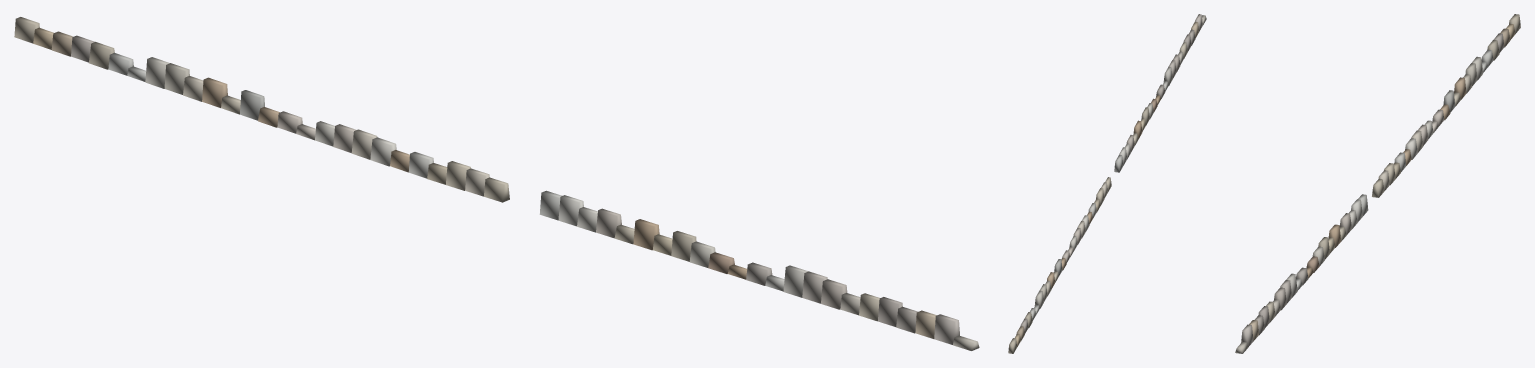
File: farm_-18_-28_collision.glb
3 views of the same model, side by side, from view 1: azimuth 30°, elevation 25°; view 2: azimuth 150°, elevation 25°; view 3: azimuth 330°, elevation 25° (orthographic). The views are drawn at different scales.
Parts seen in each view (by area): view 1: geometry_0; view 2: geometry_0; view 3: geometry_0.
Part boxes in pixels (x1=…): geometry_0: x1=14, y1=17, x2=979, y2=350; geometry_0: x1=1008, y1=14, x2=1206, y2=353; geometry_0: x1=1235, y1=14, x2=1520, y2=353.
Bounding box in the file's own units: 20.03 × 8.35 × 79.24.
